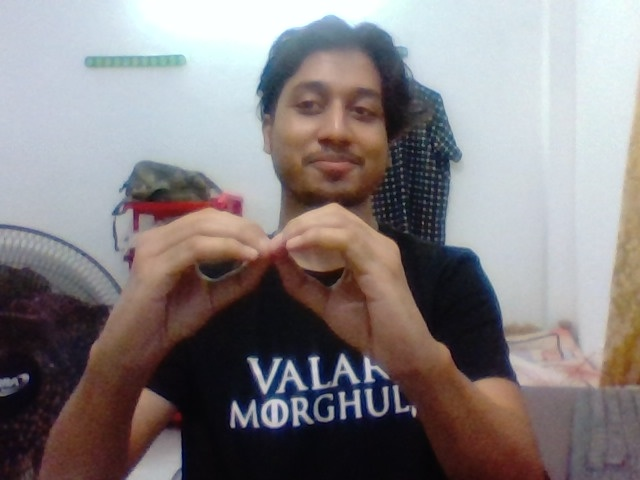B: (110, 180, 442, 385)
